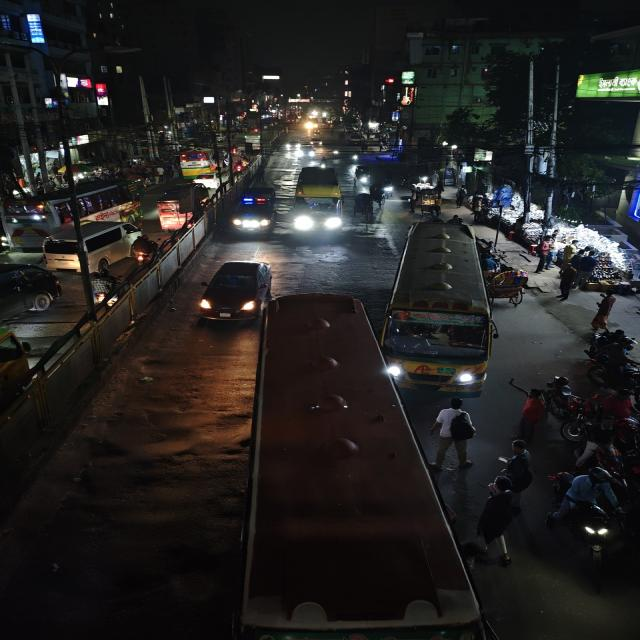bus: (248, 295, 469, 640), (385, 218, 499, 402), (0, 171, 128, 267), (289, 162, 338, 246)
car: (38, 212, 144, 270), (192, 248, 271, 325), (0, 260, 62, 328), (230, 188, 277, 239)
motorcycle: (553, 460, 623, 564), (543, 372, 603, 444), (81, 265, 116, 312)
pedestrian: (474, 477, 516, 565), (434, 393, 476, 472), (510, 379, 550, 436), (496, 432, 532, 490), (591, 288, 618, 337)
rickshaw: (484, 242, 534, 316)
truck: (154, 180, 218, 232)
